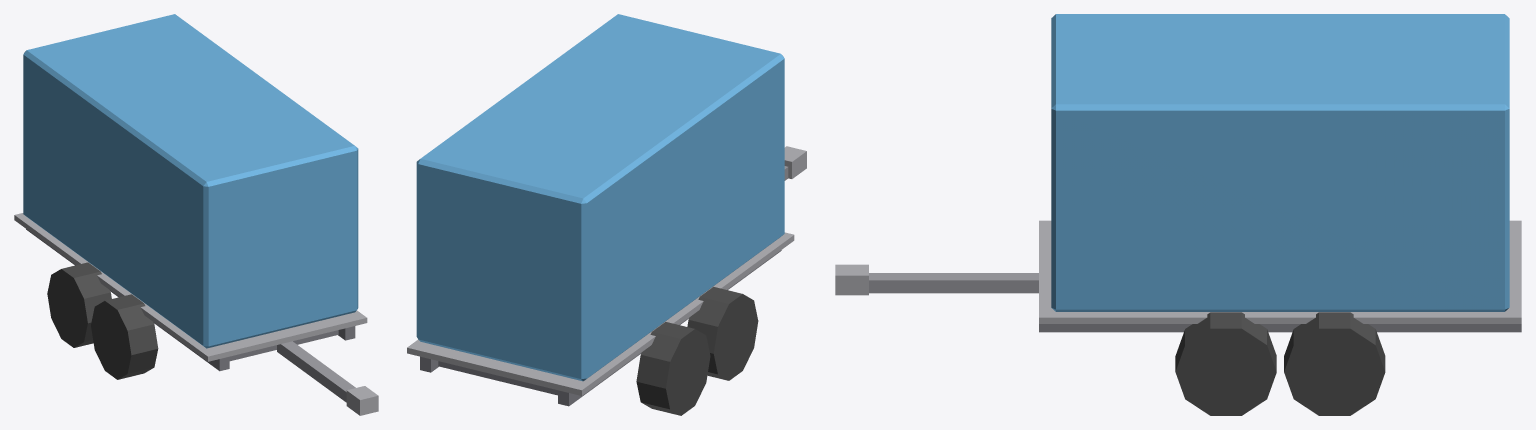
File: trailer.glb
3 views of the same model, side by side, from view 1: azimuth 30°, elevation 25°; view 2: azimuth 150°, elevation 25°; view 3: azimuth 270°, elevation 25° (orthographic). The views are drawn at different scales.
Visible parts, largest first — view 1: body, wheel_FR, wheel_RR; view 2: body, wheel_RR, wheel_FR; view 3: body, wheel_FL, wheel_RL.
Part boxes in pixels (left/top/right/bottom): body: left=14, top=14, right=378, bottom=415; wheel_FR: left=91, top=294, right=158, bottom=379; wheel_RR: left=47, top=262, right=111, bottom=347; body: left=407, top=14, right=806, bottom=406; wheel_RR: left=636, top=322, right=710, bottom=415; wheel_FR: left=687, top=286, right=758, bottom=380; body: left=835, top=14, right=1521, bottom=332; wheel_FL: left=1175, top=312, right=1276, bottom=415; wheel_RL: left=1284, top=312, right=1385, bottom=415.
Size of the model in its own units: 2.42 by 2.7 by 5.69.
